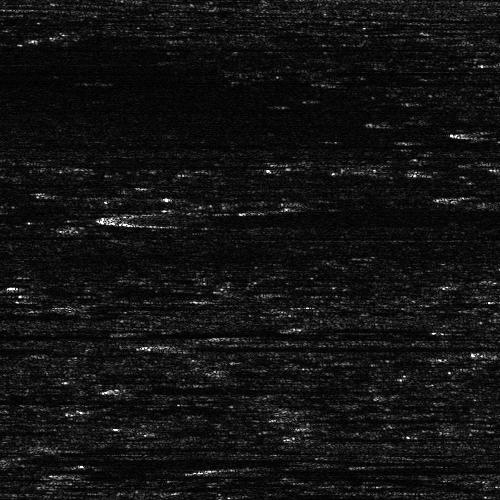rock: (267, 318, 330, 333), (182, 465, 275, 474), (197, 331, 280, 340), (99, 382, 162, 393), (34, 442, 107, 451), (247, 413, 340, 420), (0, 284, 53, 295), (137, 343, 200, 352), (267, 432, 340, 439), (67, 303, 150, 308), (0, 454, 26, 465), (121, 328, 162, 333)
shadow: (0, 454, 466, 465), (131, 382, 381, 393), (239, 331, 498, 340), (169, 343, 424, 352), (229, 465, 475, 474), (71, 442, 310, 451), (299, 318, 387, 333), (142, 328, 398, 333), (294, 413, 464, 420), (304, 432, 474, 439), (12, 284, 95, 295), (0, 310, 60, 317), (109, 303, 193, 308), (0, 313, 46, 322), (0, 161, 58, 166)
